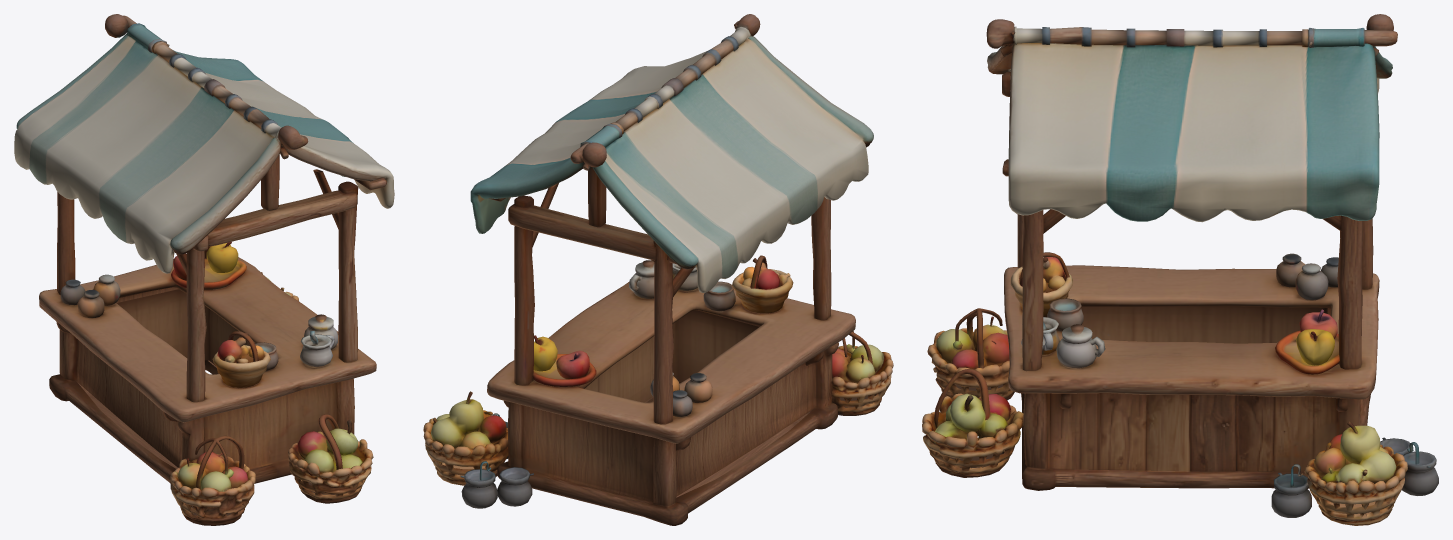
The model's file is ai_market-stall.glb.
3 views of the same model, side by side, from view 1: azimuth 30°, elevation 25°; view 2: azimuth 150°, elevation 25°; view 3: azimuth 270°, elevation 25° (orthographic). The views are drawn at different scales.
Parts seen in each view (by area): view 1: tripo_node_1a1cf1f0-2034-4e70-b005-dc10b05defef; view 2: tripo_node_1a1cf1f0-2034-4e70-b005-dc10b05defef; view 3: tripo_node_1a1cf1f0-2034-4e70-b005-dc10b05defef.
Boxes of the visible parts, x1,y1,x2,y2 form: tripo_node_1a1cf1f0-2034-4e70-b005-dc10b05defef: [14, 14, 394, 525]; tripo_node_1a1cf1f0-2034-4e70-b005-dc10b05defef: [423, 14, 893, 525]; tripo_node_1a1cf1f0-2034-4e70-b005-dc10b05defef: [922, 14, 1438, 525].
Size of the model in its own units: 2.44 by 3.02 by 3.3.
1 material, 1 textured.
